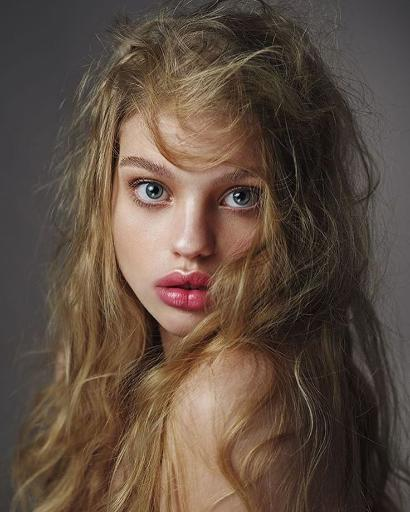left_eye: (219, 186, 261, 215)
right_eye: (129, 179, 173, 211)
right_lip_corner: (154, 281, 163, 298)
